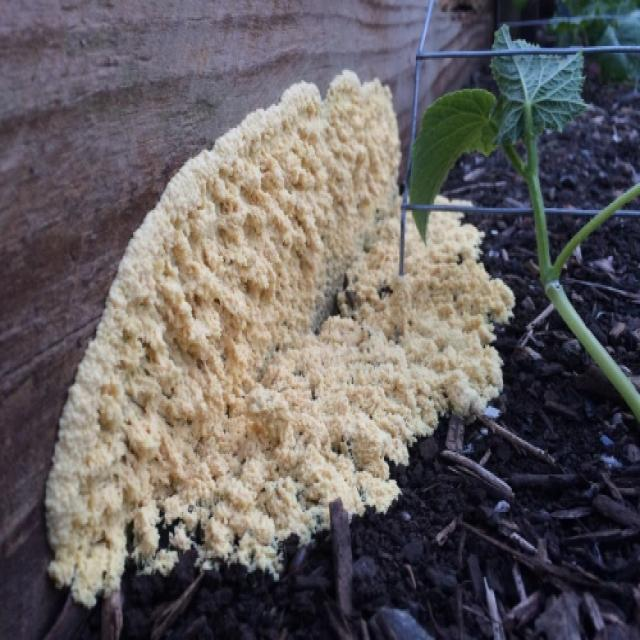Dog_vomit_slime_mold: (39, 61, 506, 562)
